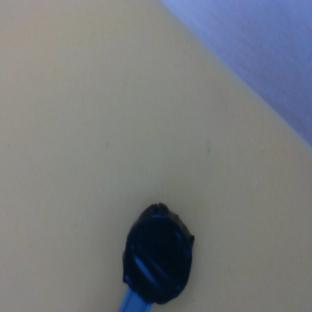part_3_bad: (116, 200, 198, 312)
